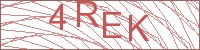4: (47, 2, 67, 33)
E: (99, 10, 125, 40)
K: (126, 13, 152, 43)
R: (74, 1, 100, 29)
